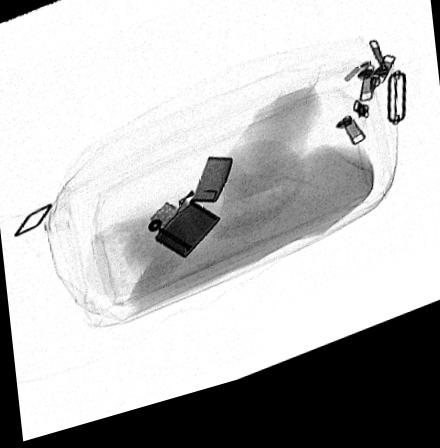Lighter: (145, 167, 233, 268)
